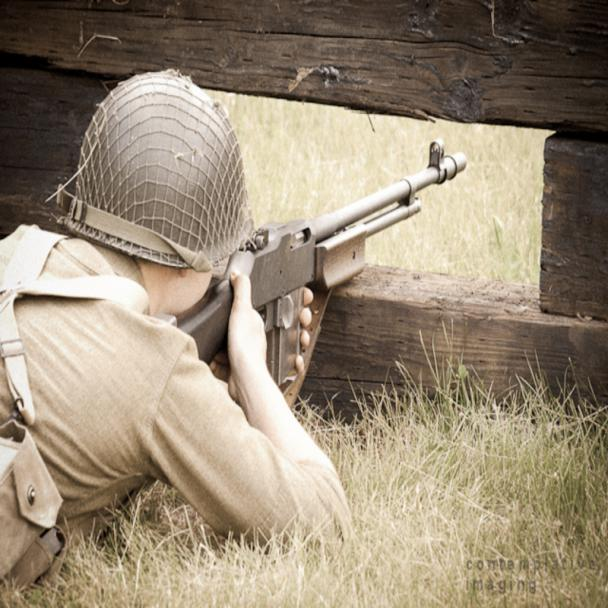Gun: (182, 134, 471, 368)
Hand: (213, 265, 289, 447)
